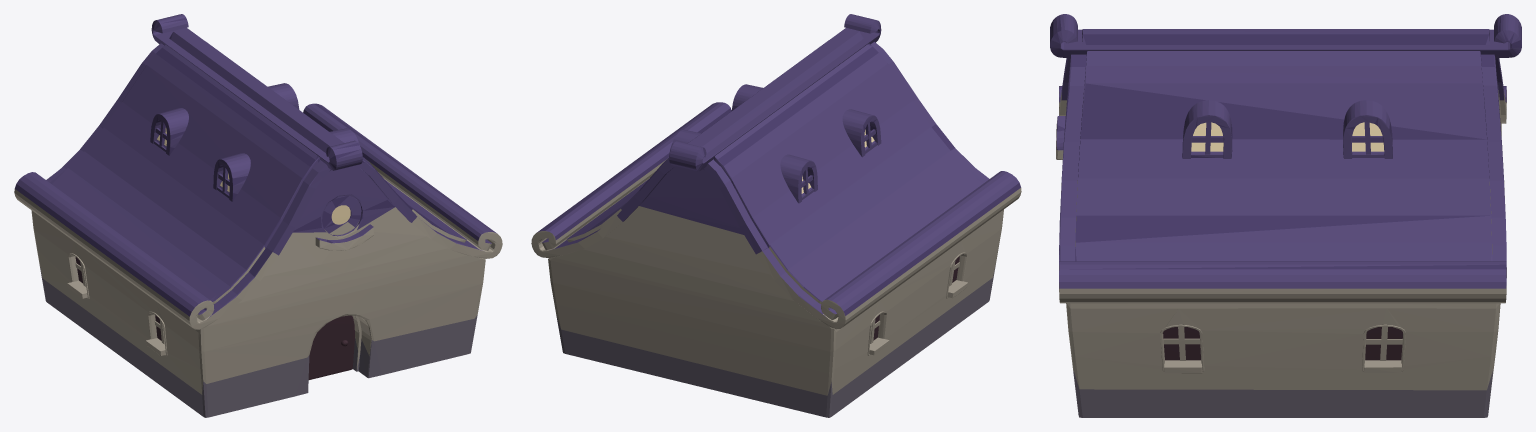
File: casita.glb
The picture shows the model from 3 angles, left to right: view 1: azimuth 30°, elevation 25°; view 2: azimuth 150°, elevation 25°; view 3: azimuth 270°, elevation 25°; orthographic projection. The views are drawn at different scales.
Visible parts, largest first — view 1: casita; view 2: casita; view 3: casita.
Part boxes in pixels (x1,y1,x2,y2): casita: (14, 14, 502, 417); casita: (531, 14, 1021, 417); casita: (1050, 14, 1521, 417).
Size of the model in its own units: 0.9775 by 0.732 by 1.
